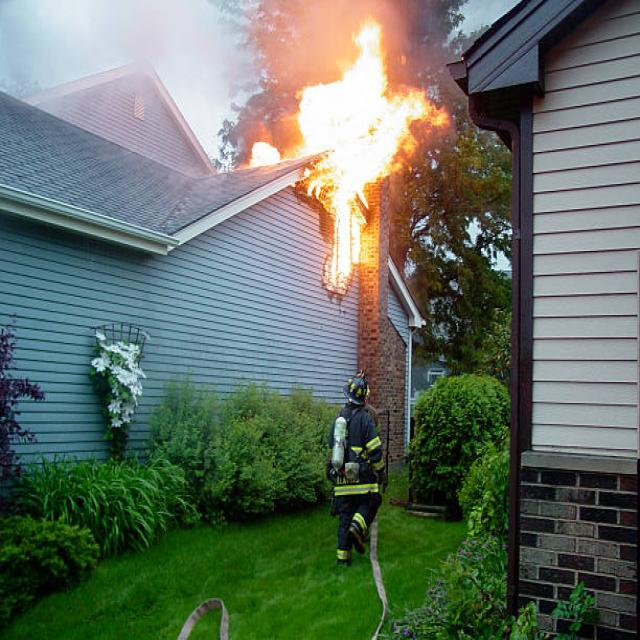fire: (296, 15, 456, 192), (324, 203, 370, 311), (240, 119, 286, 183)
